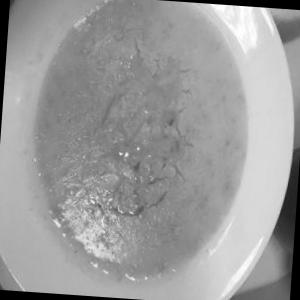porridge: (7, 0, 265, 299)
